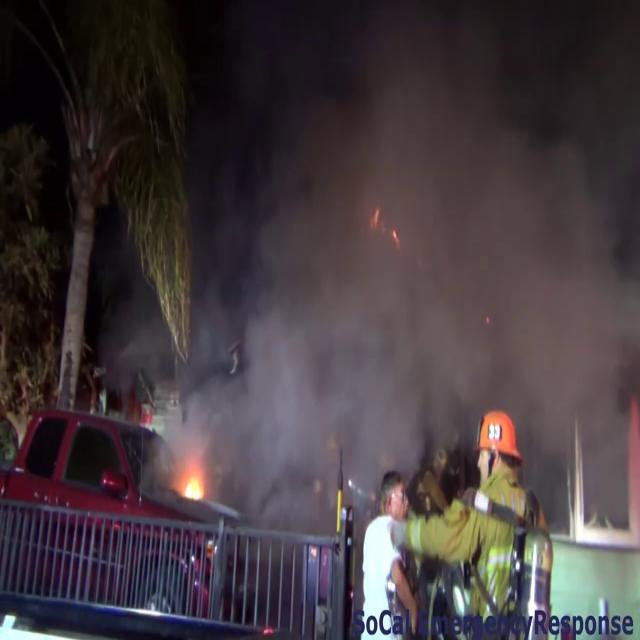Fire: (176, 454, 208, 510)
Smoke: (165, 1, 640, 467)
